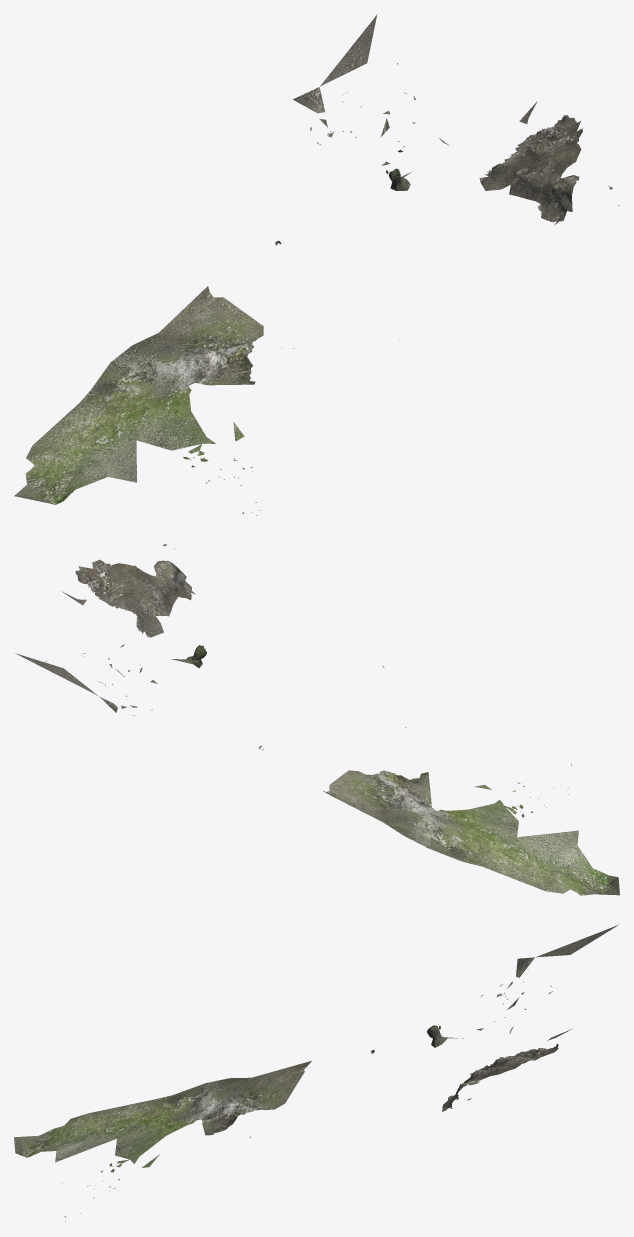
3 views of the same model, one above another, from view 1: azimuth 30°, elevation 25°; view 2: azimuth 150°, elevation 25°; view 3: azimuth 330°, elevation 25° (orthographic). The views are drawn at different scales.
Bounding box in the file's own units: 63.14 × 26.48 × 45.8.
Materials: 1 (1 with a texture image).
